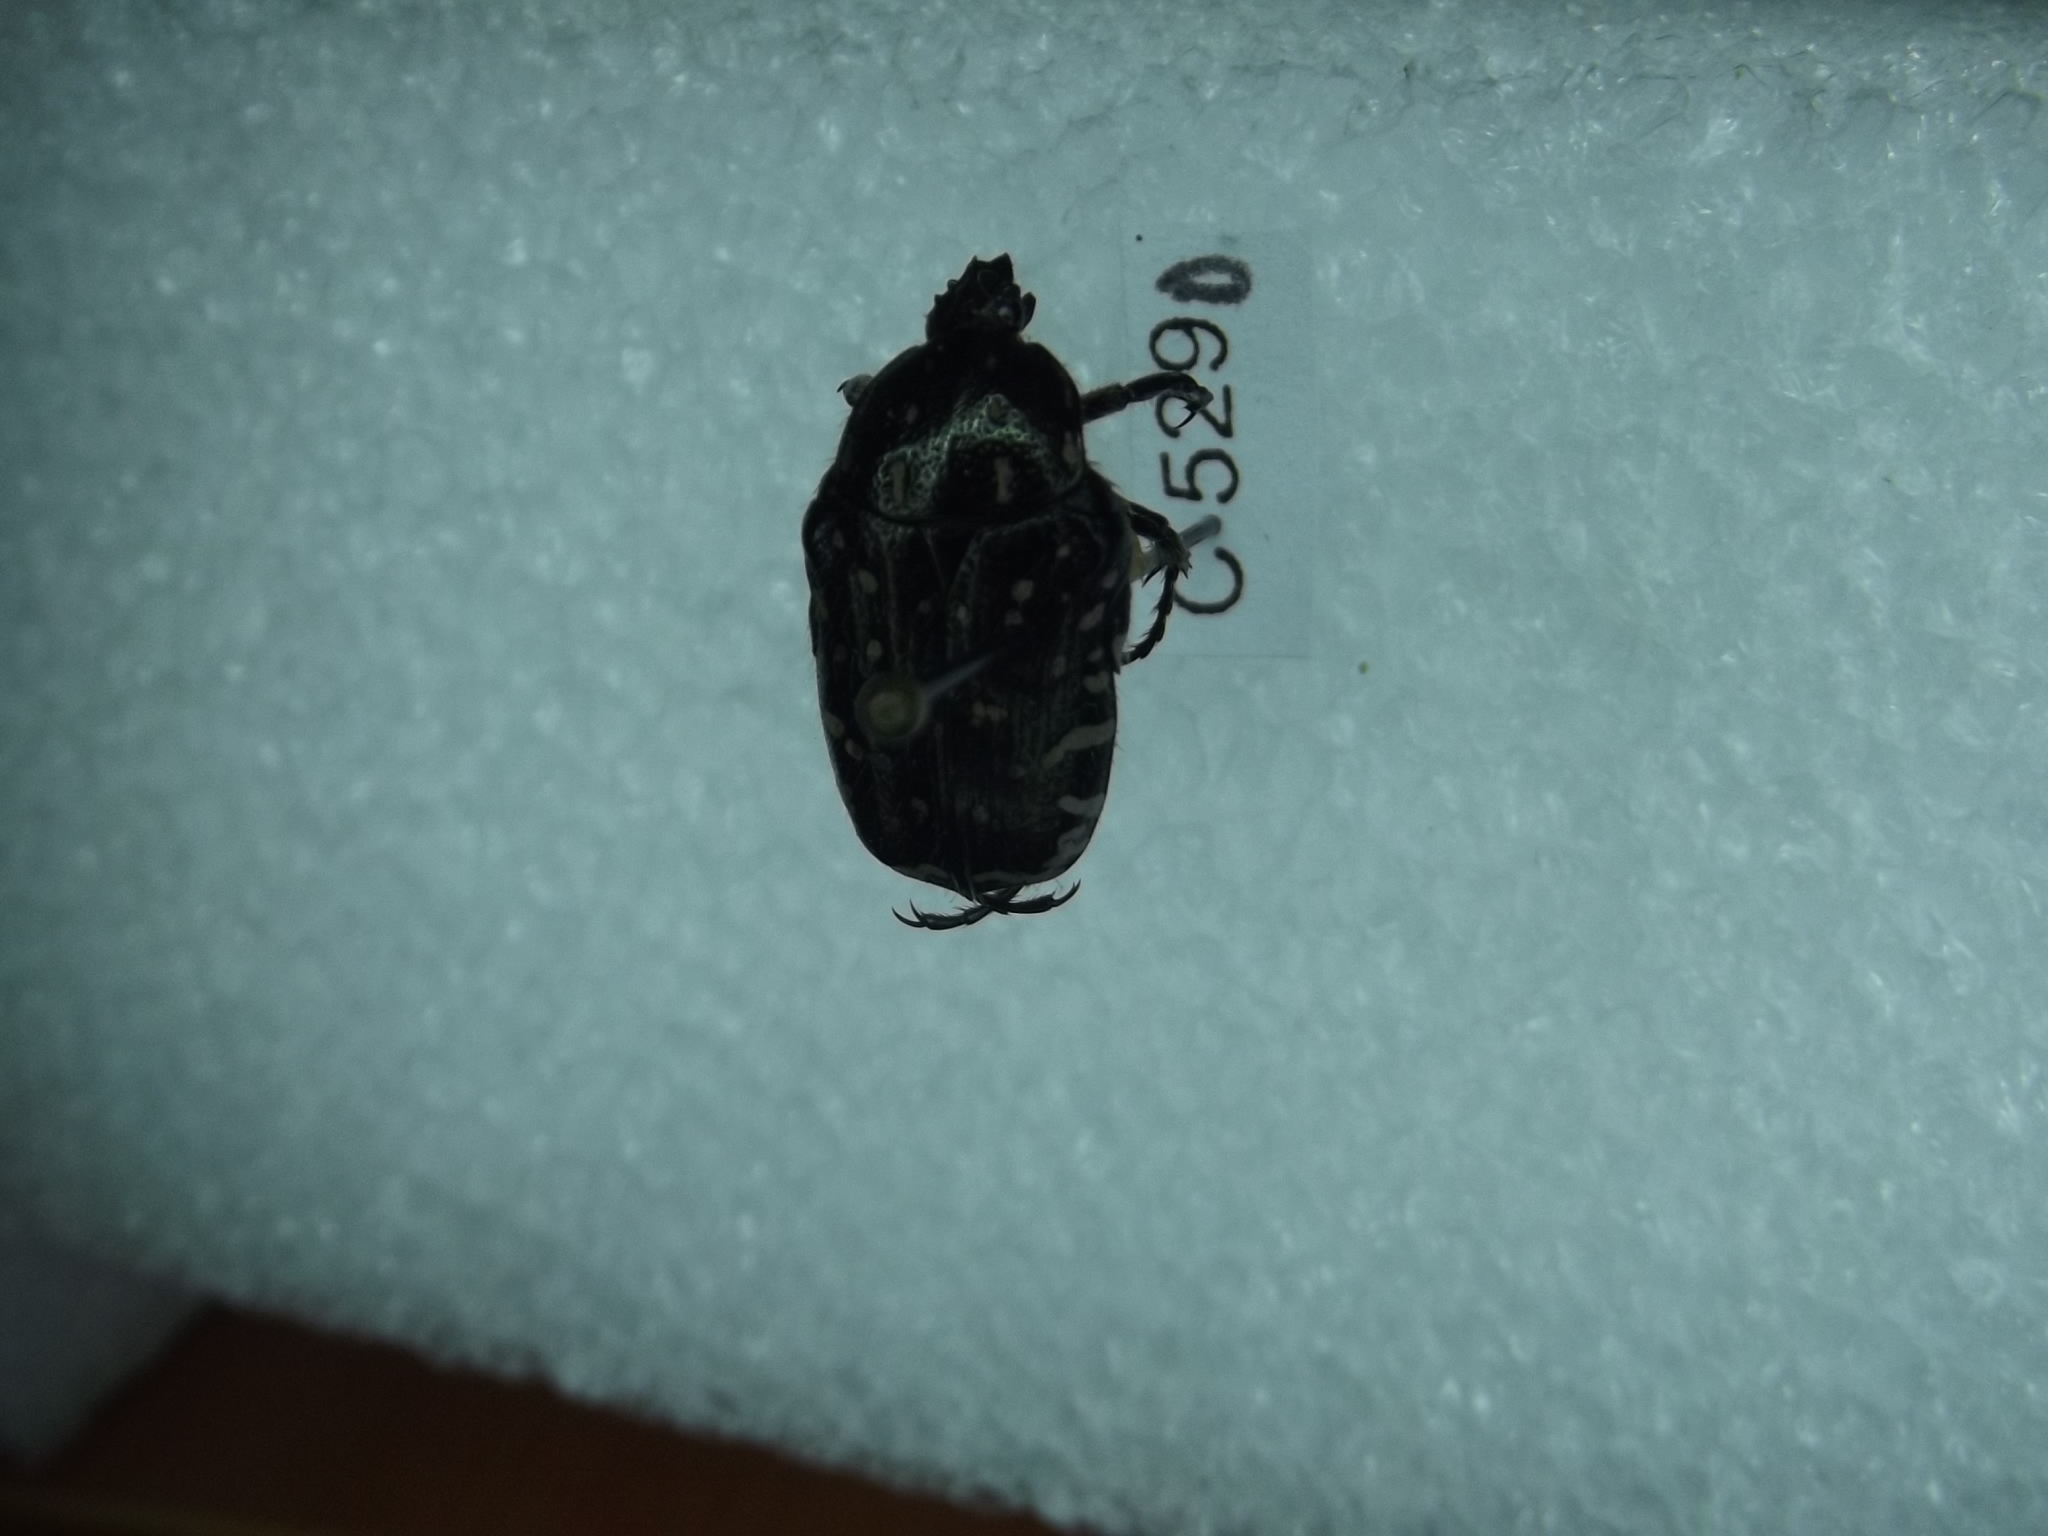Oxythyrea_funesta: (777, 239, 1227, 939)
